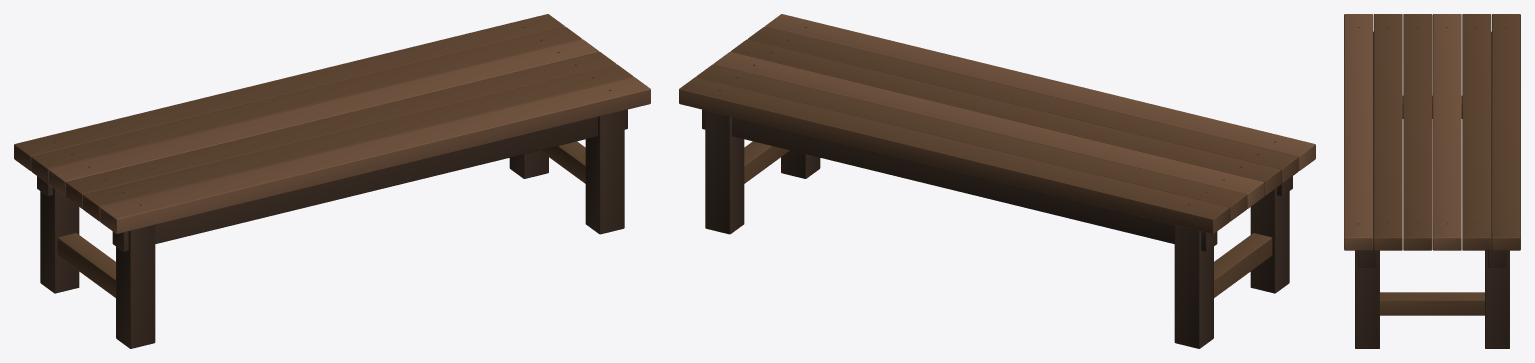
The model's file is kominka-engawa-bench-1800-01.glb.
3 views of the same model, side by side, from view 1: azimuth 30°, elevation 25°; view 2: azimuth 150°, elevation 25°; view 3: azimuth 270°, elevation 25° (orthographic). The views are drawn at different scales.
Visible parts, largest first — view 1: kominka-engawa-bench-1800-01; view 2: kominka-engawa-bench-1800-01; view 3: kominka-engawa-bench-1800-01.
Part boxes in pixels (<box>): kominka-engawa-bench-1800-01: <box>14,14,650,348</box>; kominka-engawa-bench-1800-01: <box>679,14,1315,348</box>; kominka-engawa-bench-1800-01: <box>1344,14,1520,348</box>.
Size of the model in its own units: 1.8 by 0.45 by 0.6.
